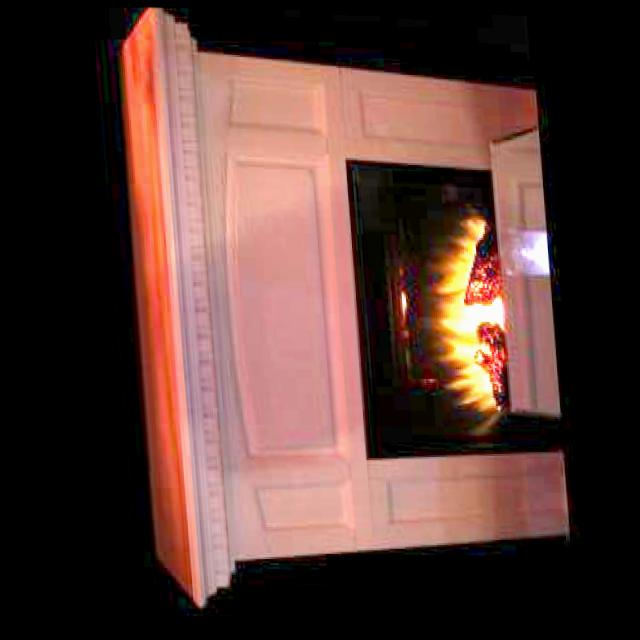helmet: (407, 201, 505, 430)
